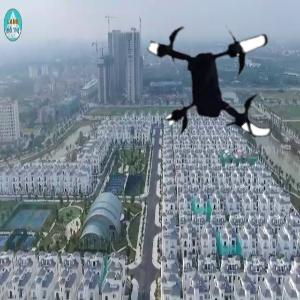drone: (144, 4, 298, 158)
